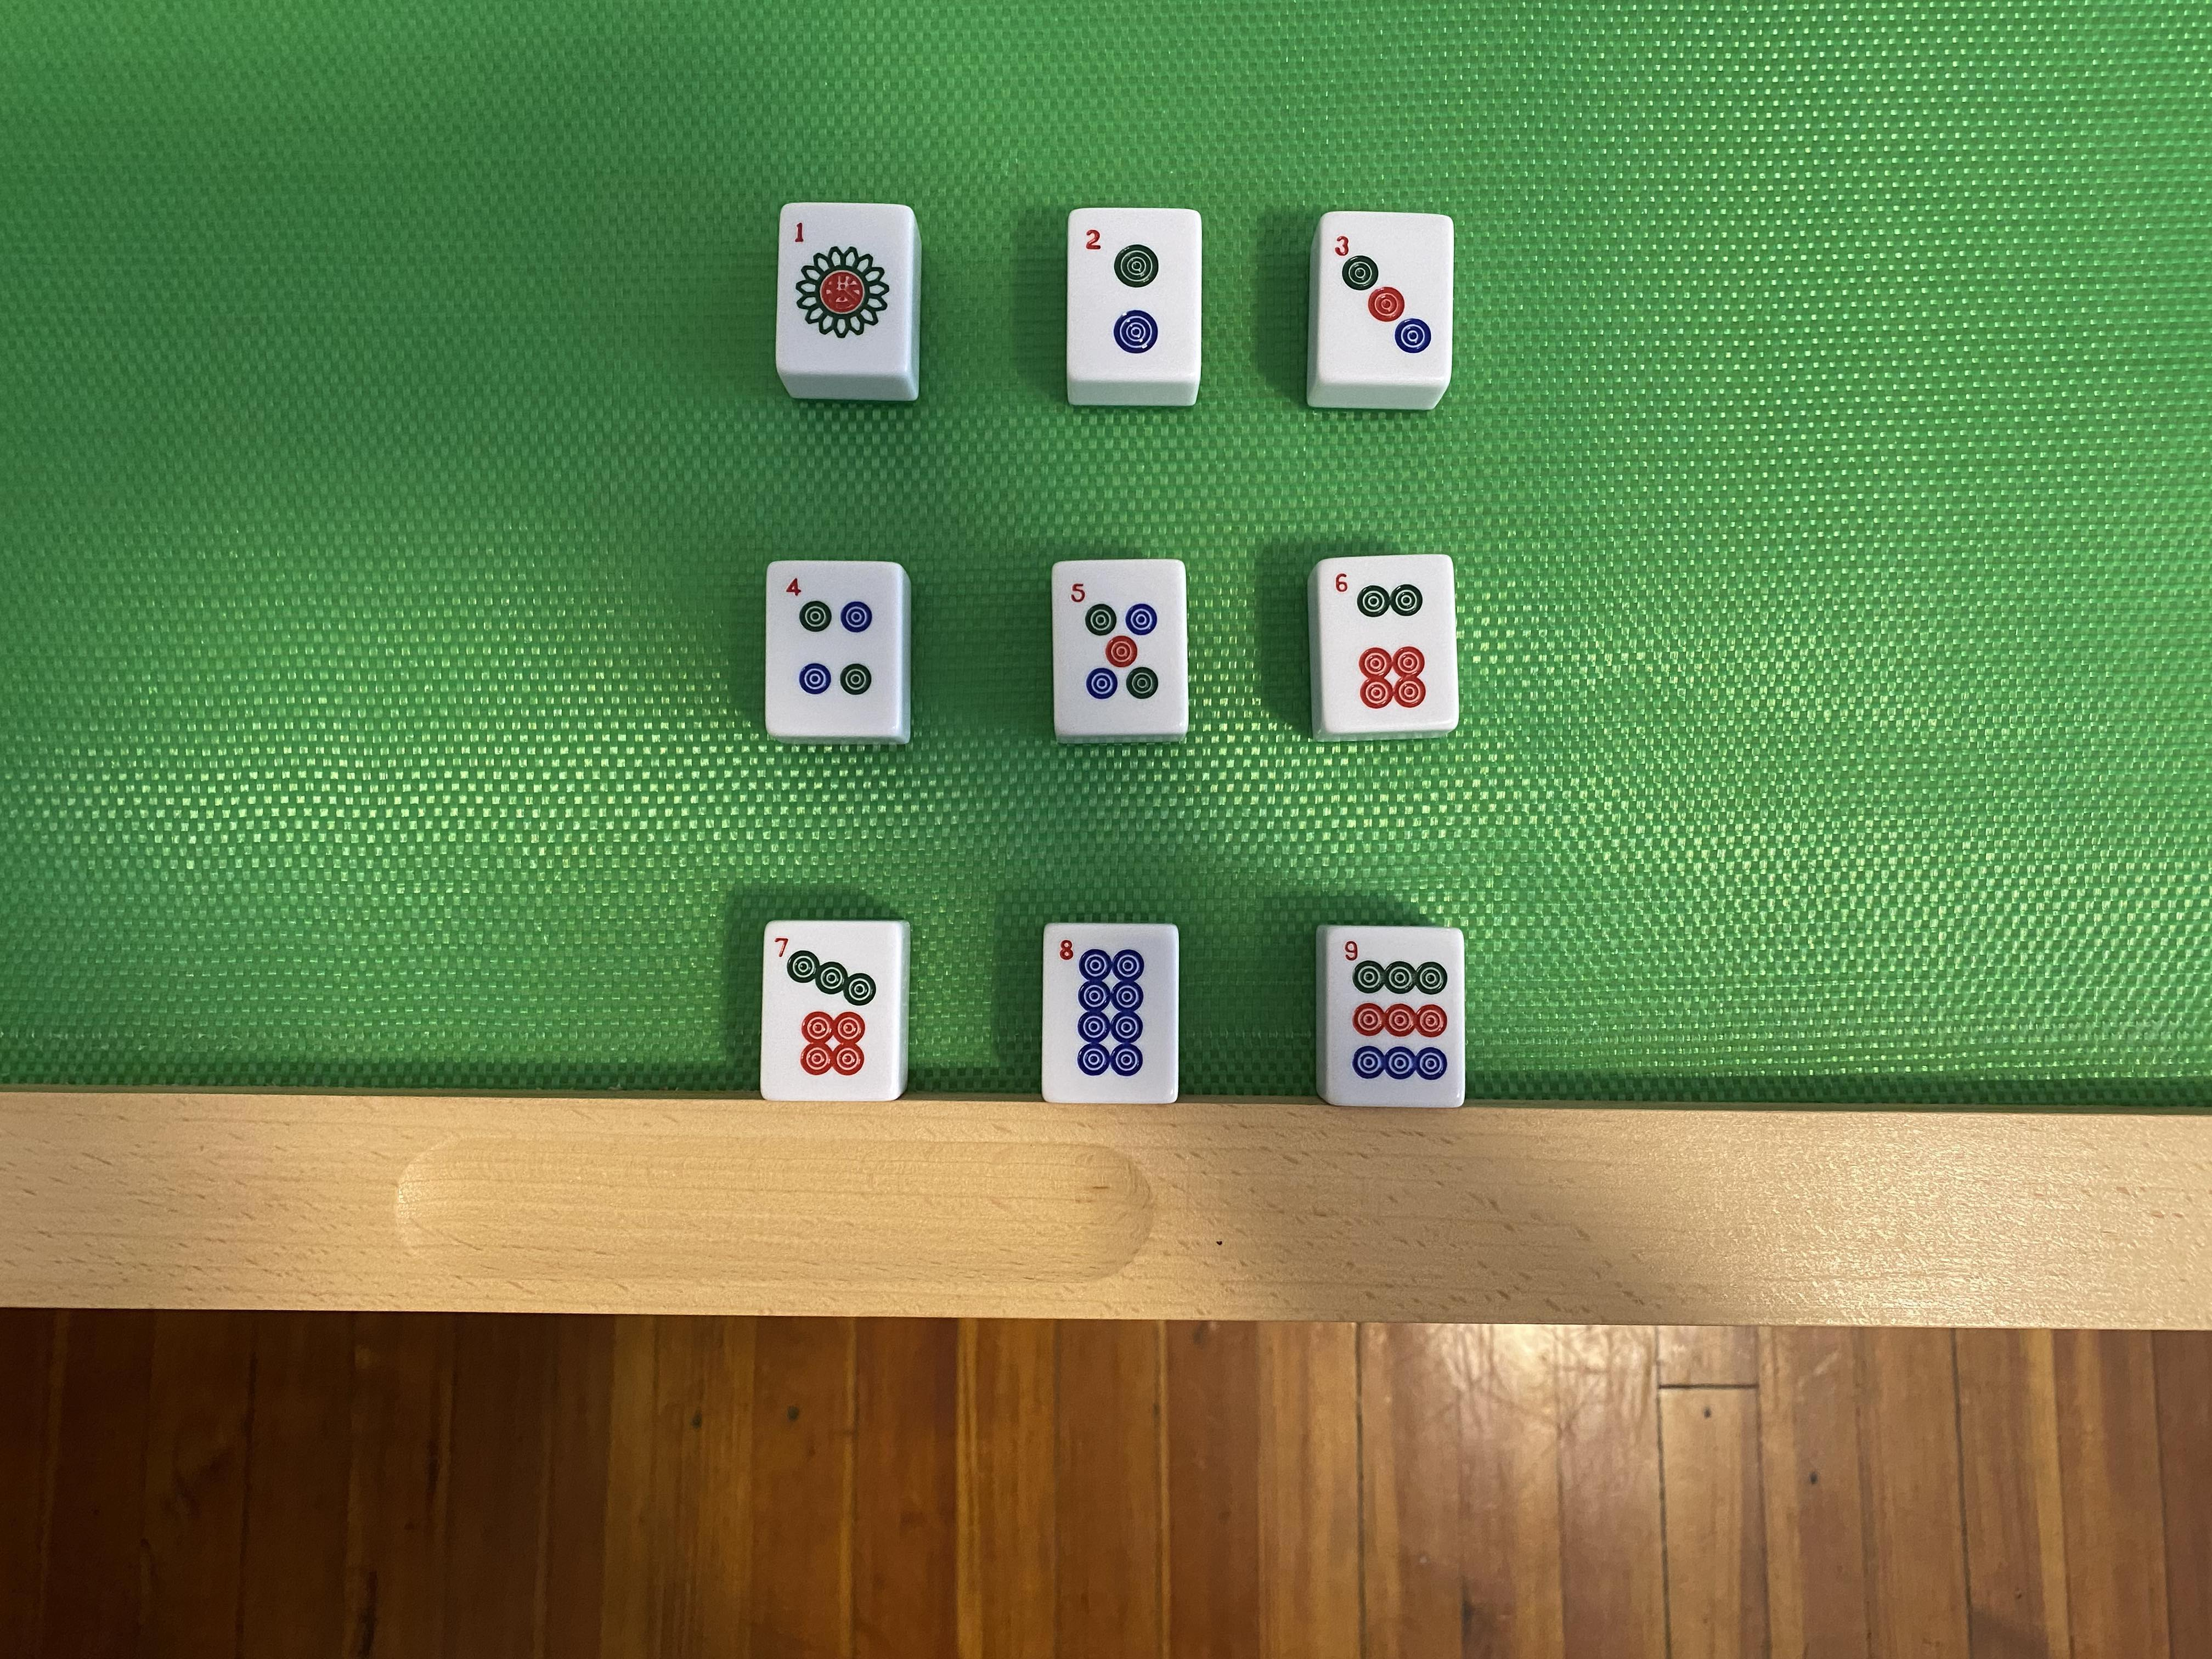circle-eight: (1045, 925, 1177, 1103)
circle-five: (1057, 561, 1191, 732)
circle-four: (766, 563, 899, 734)
circle-nine: (1329, 932, 1461, 1105)
circle-one: (784, 204, 911, 371)
circle-seven: (763, 924, 897, 1098)
circle-six: (1320, 563, 1458, 725)
circle-three: (1324, 214, 1453, 380)
circle-two: (1071, 213, 1200, 378)
